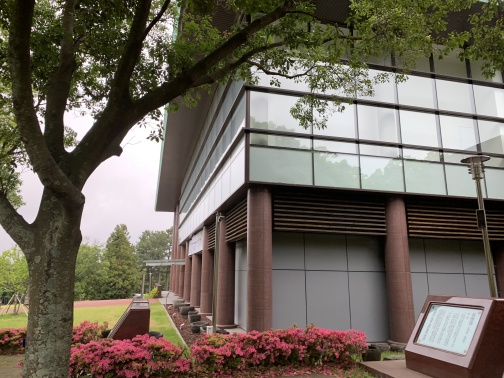Museum: (151, 9, 497, 375)
